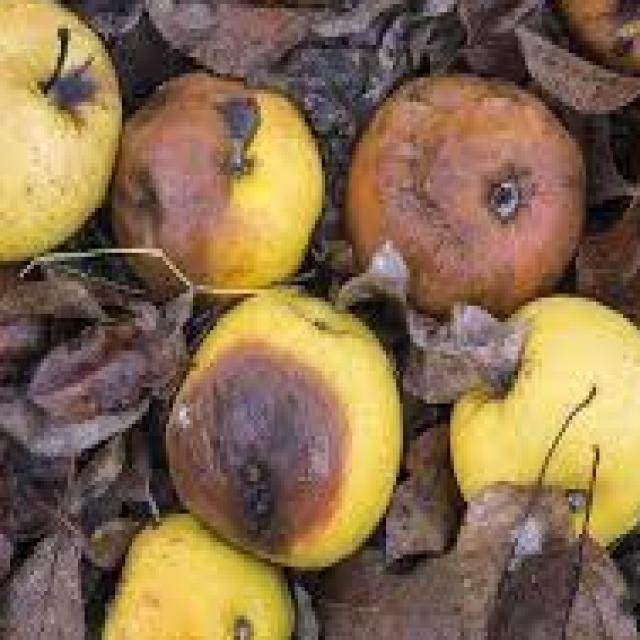inorganic: (159, 272, 437, 578), (341, 81, 594, 326), (119, 74, 352, 313), (456, 303, 640, 563), (108, 497, 330, 640), (3, 74, 115, 278)
